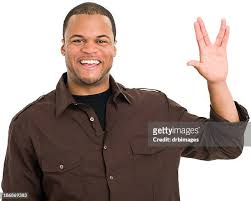LiveLong: (186, 14, 231, 84)
